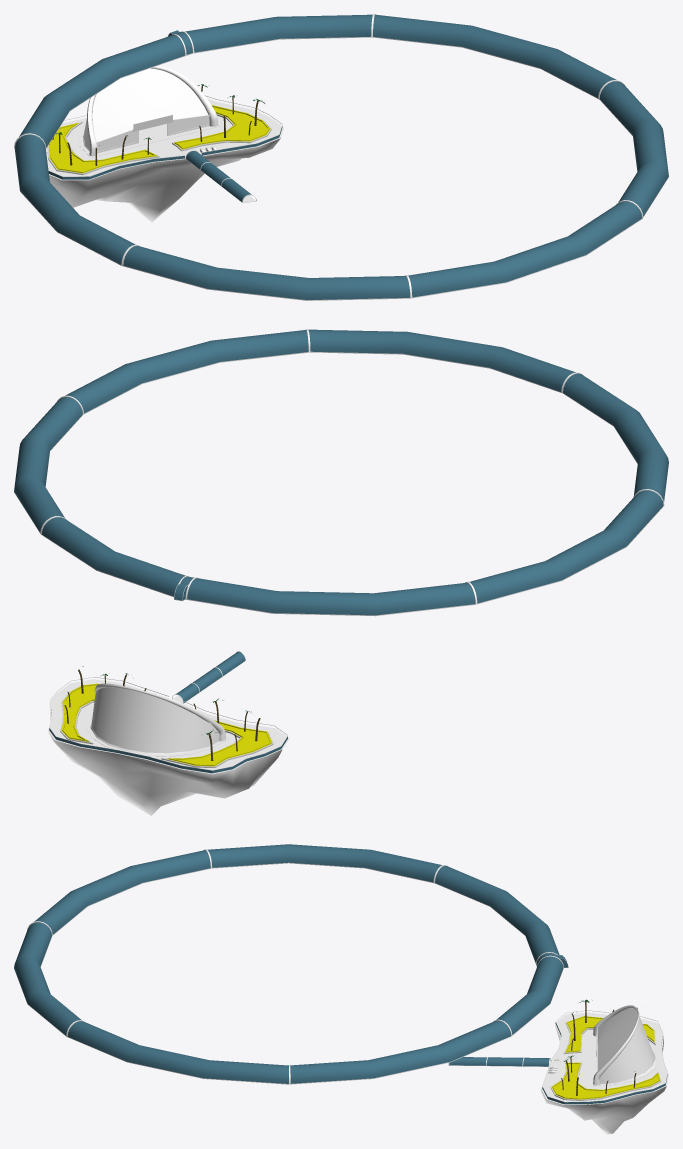
File: Centro_Comercial.glb
3 renders of one model, top to bottom at view 1: azimuth 30°, elevation 25°; view 2: azimuth 150°, elevation 25°; view 3: azimuth 270°, elevation 25°, orthographic. The views are drawn at different scales.
Parts seen in each view (by area): view 1: Tunel, Almacen1; view 2: Tunel, Almacen1; view 3: Tunel, Almacen1.
Part boxes in pixels (<box>): Tunel: <box>14,14,668,300</box>; Almacen1: <box>46,66,283,222</box>; Tunel: <box>14,329,668,616</box>; Almacen1: <box>48,651,289,815</box>; Tunel: <box>14,844,568,1084</box>; Almacen1: <box>448,999,668,1134</box>.
Bounding box in the file's own units: 3.87 × 1.39 × 4.61.
18 materials, 2 textured.
